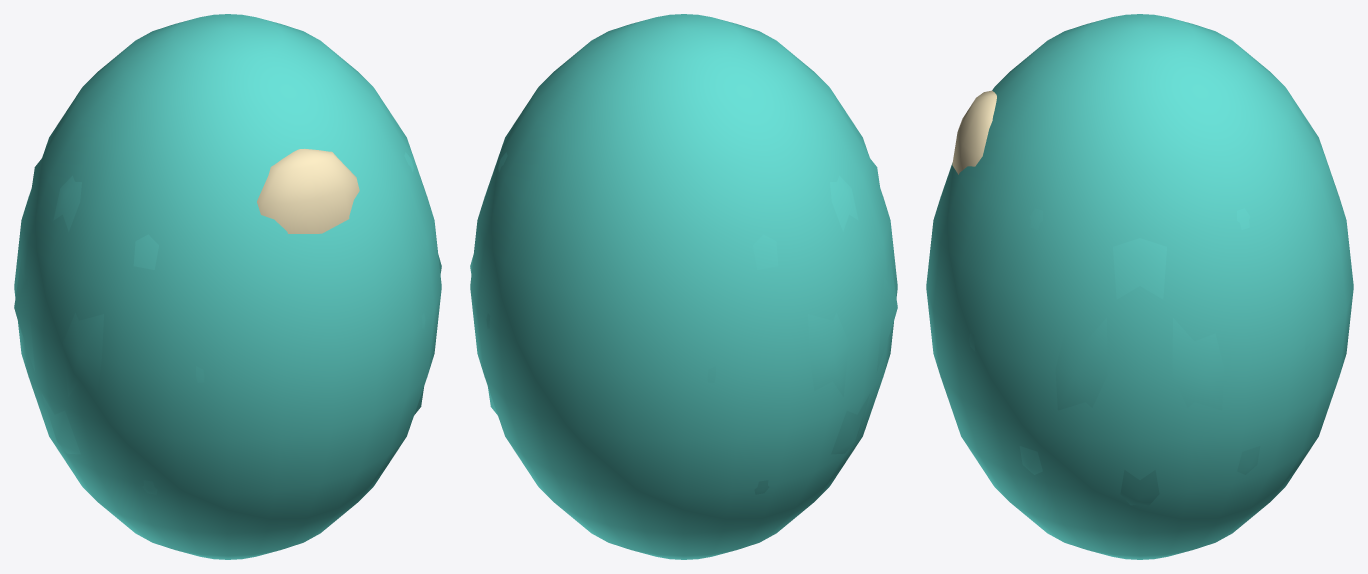
File: CHR_Virela.glb
3 renders of one model, left to right at view 1: azimuth 30°, elevation 25°; view 2: azimuth 150°, elevation 25°; view 3: azimuth 270°, elevation 25°, orthographic.
Parts seen in each view (by area): view 1: VIS_CHR_Virela_LOD0, COL_CHR_Virela_Hull, VIS_CHR_Virela_Crest; view 2: VIS_CHR_Virela_LOD0, COL_CHR_Virela_Hull; view 3: VIS_CHR_Virela_LOD0, COL_CHR_Virela_Hull, VIS_CHR_Virela_Crest.
Boxes of the visible parts, x1,y1,x2,y2 form: VIS_CHR_Virela_LOD0: (14, 14, 441, 559); COL_CHR_Virela_Hull: (14, 152, 441, 494); VIS_CHR_Virela_Crest: (257, 148, 359, 233); VIS_CHR_Virela_LOD0: (470, 14, 897, 559); COL_CHR_Virela_Hull: (470, 152, 897, 494); VIS_CHR_Virela_LOD0: (926, 14, 1353, 559); COL_CHR_Virela_Hull: (969, 208, 1310, 505); VIS_CHR_Virela_Crest: (952, 90, 996, 174).
Size of what is drawn, in the model's own units: 0.9 by 1.2 by 0.9.
